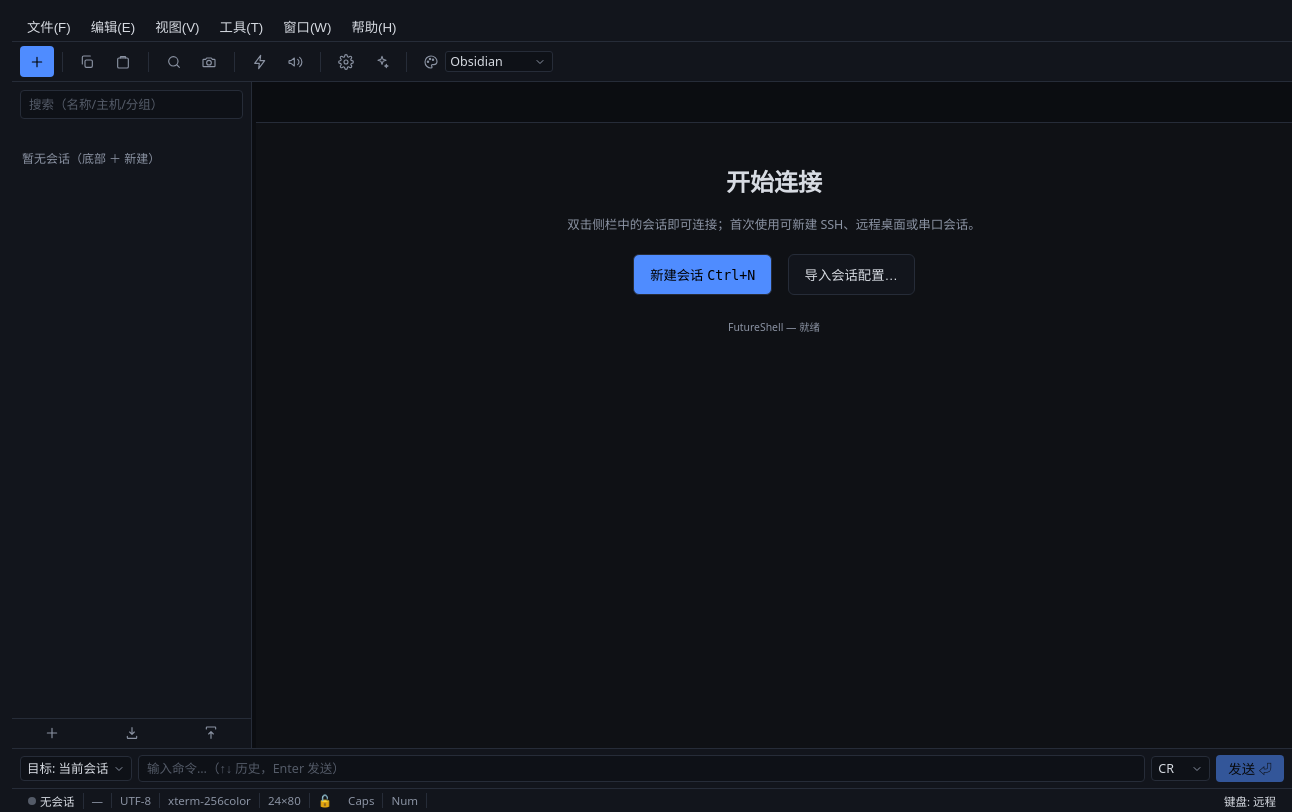
Test: App 骨架：五条 chrome 都在，且视图开关真的开关它们 › 视图菜单「组合命令栏」切换即隐藏该栏
expect the element with test id "composebar" is shown: met, box x1=12 y1=748 x2=1291 y2=788
Click the menu item "视图(V)".
click(177, 26)  # box x1=146 y1=14 x2=208 y2=39
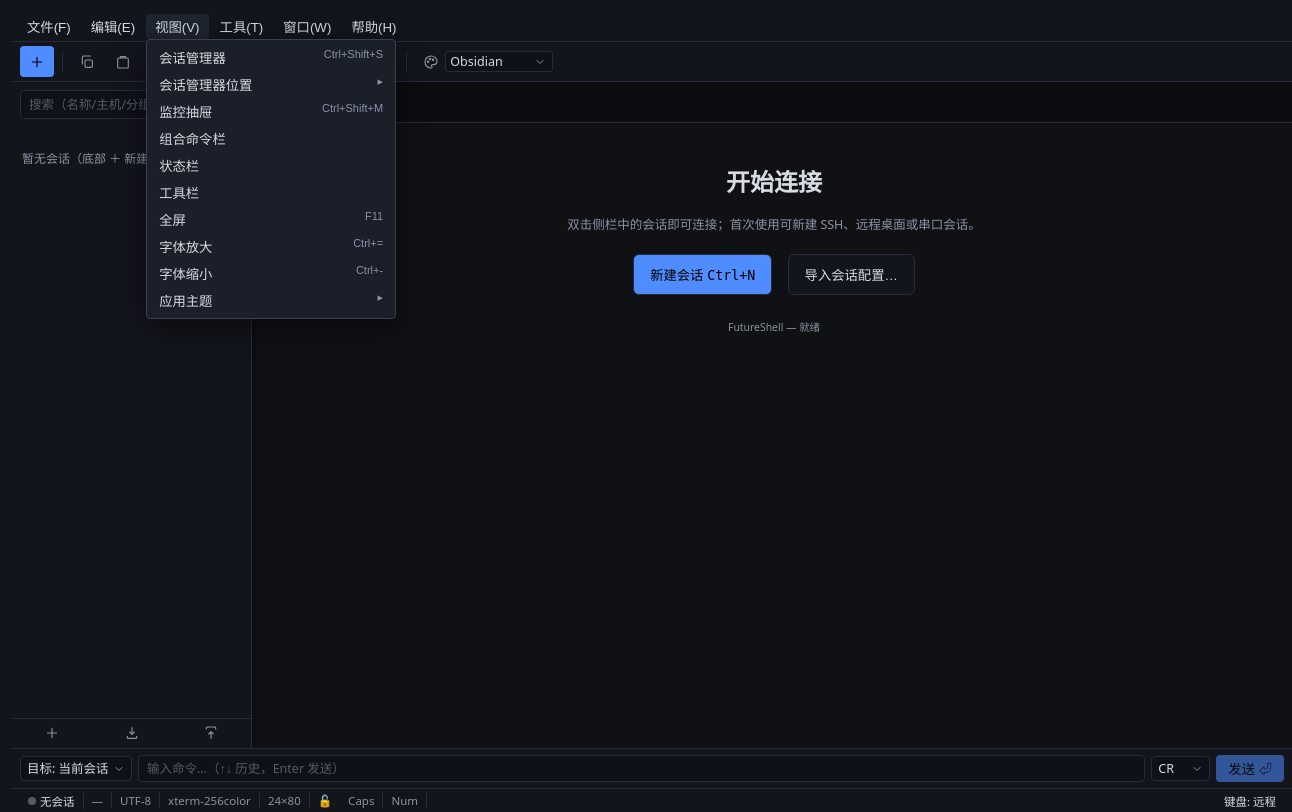
expect the menu item "组合命令栏" is shown: met
Click the menu item "组合命令栏".
click(271, 138)  # box x1=151 y1=125 x2=391 y2=152
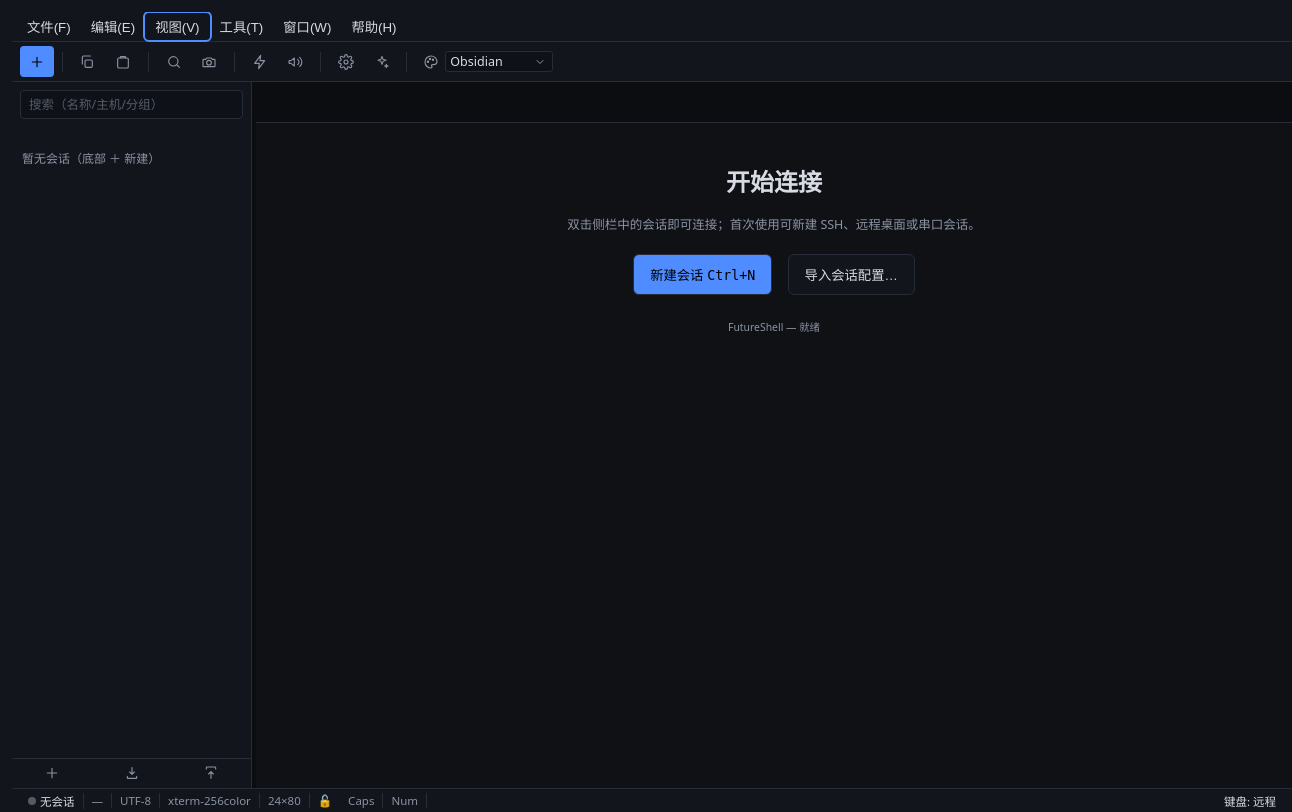
expect the element with test id "composebar" is gone: met
